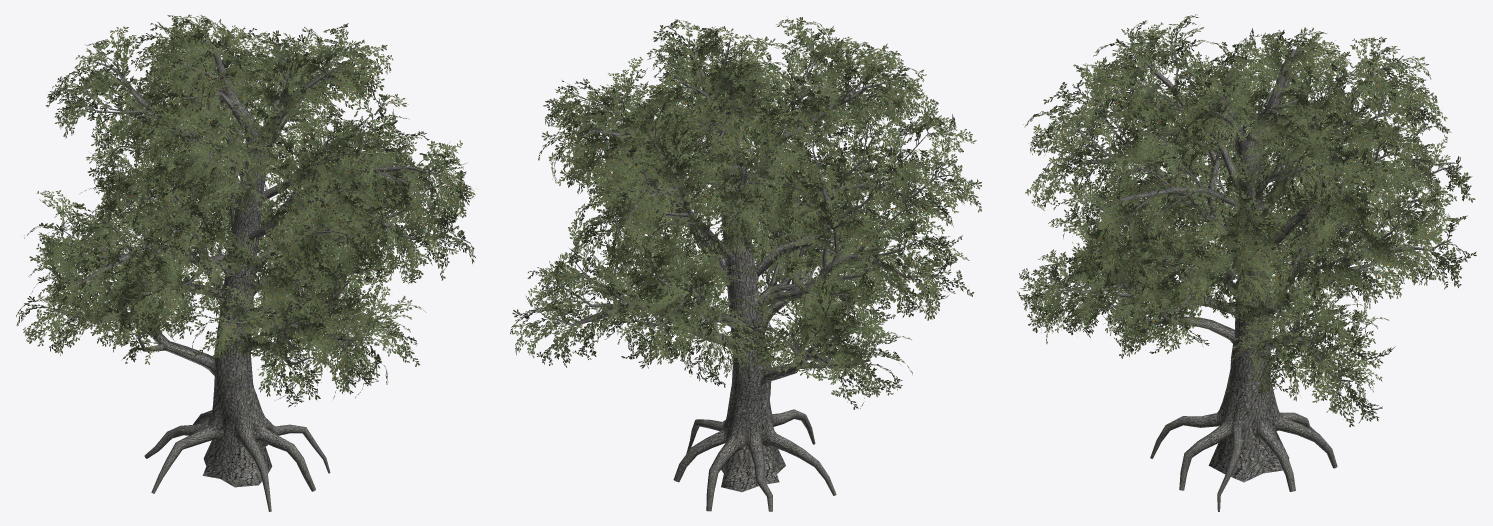
The model's file is prop_oak_petiolate.glb.
The picture shows the model from 3 angles, left to right: view 1: azimuth 30°, elevation 25°; view 2: azimuth 150°, elevation 25°; view 3: azimuth 270°, elevation 25°; orthographic projection.
Parts seen in each view (by area): view 1: Oak01_LOD0; view 2: Oak01_LOD0; view 3: Oak01_LOD0.
Boxes of the visible parts, x1,y1,x2,y2 form: Oak01_LOD0: (16, 14, 475, 511); Oak01_LOD0: (510, 17, 981, 511); Oak01_LOD0: (1017, 14, 1476, 511).
Size of the model in its own units: 16.08 by 16.94 by 16.32.
2 materials, 2 textured.
